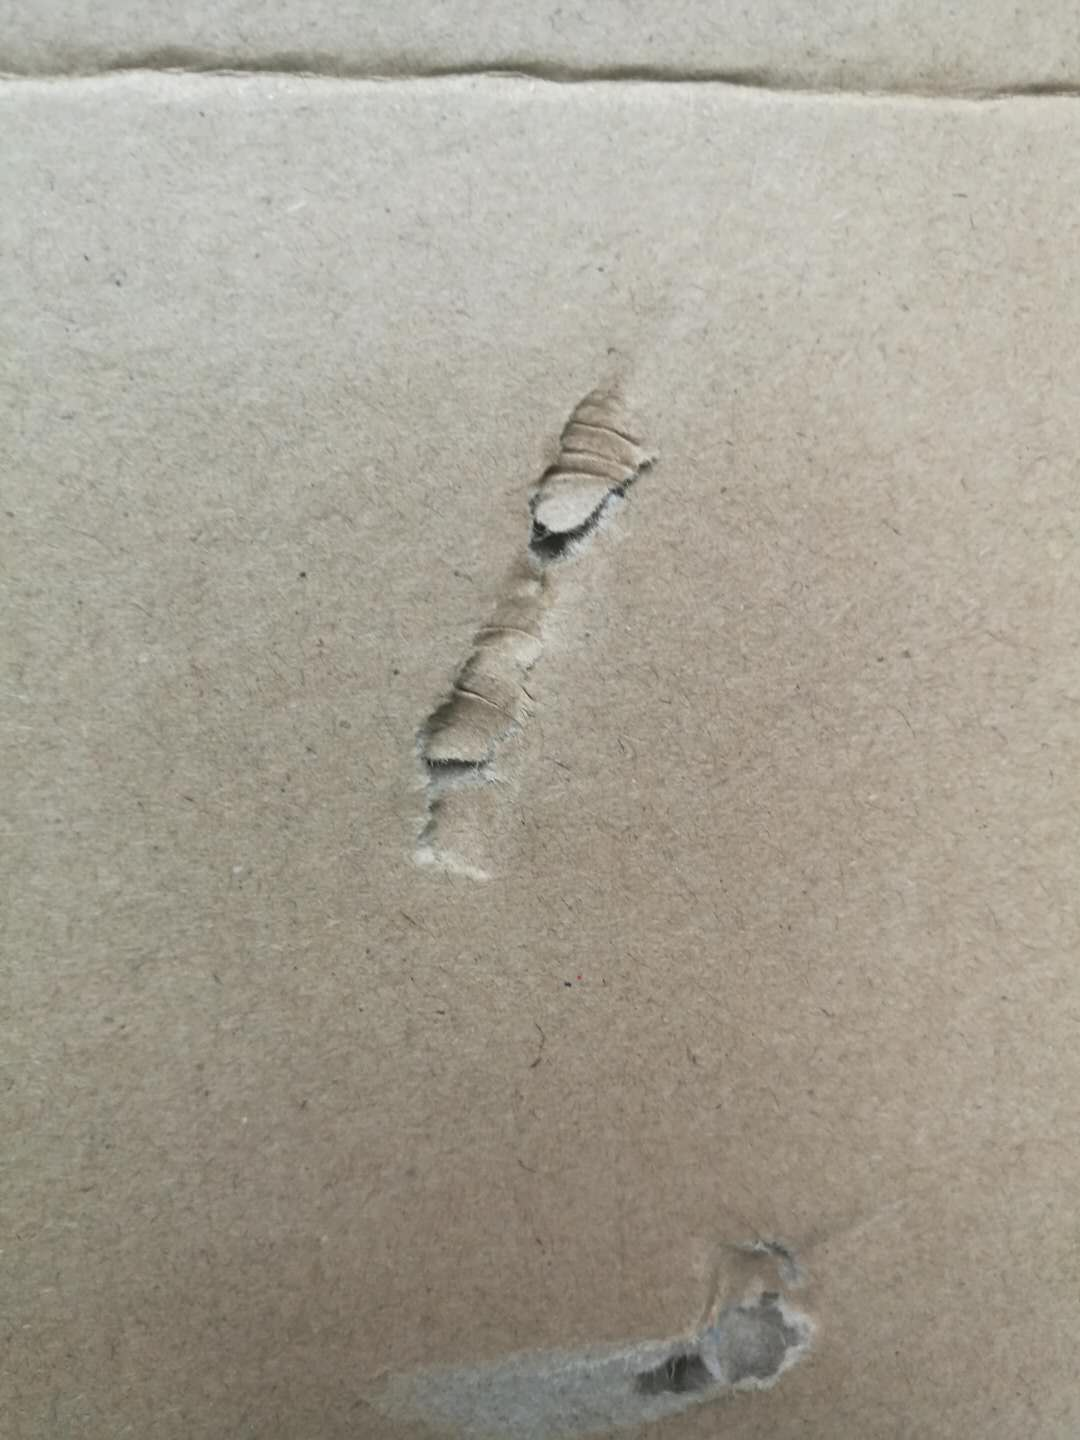defect: (368, 342, 675, 912), (2, 7, 1080, 145), (345, 1208, 846, 1440)
